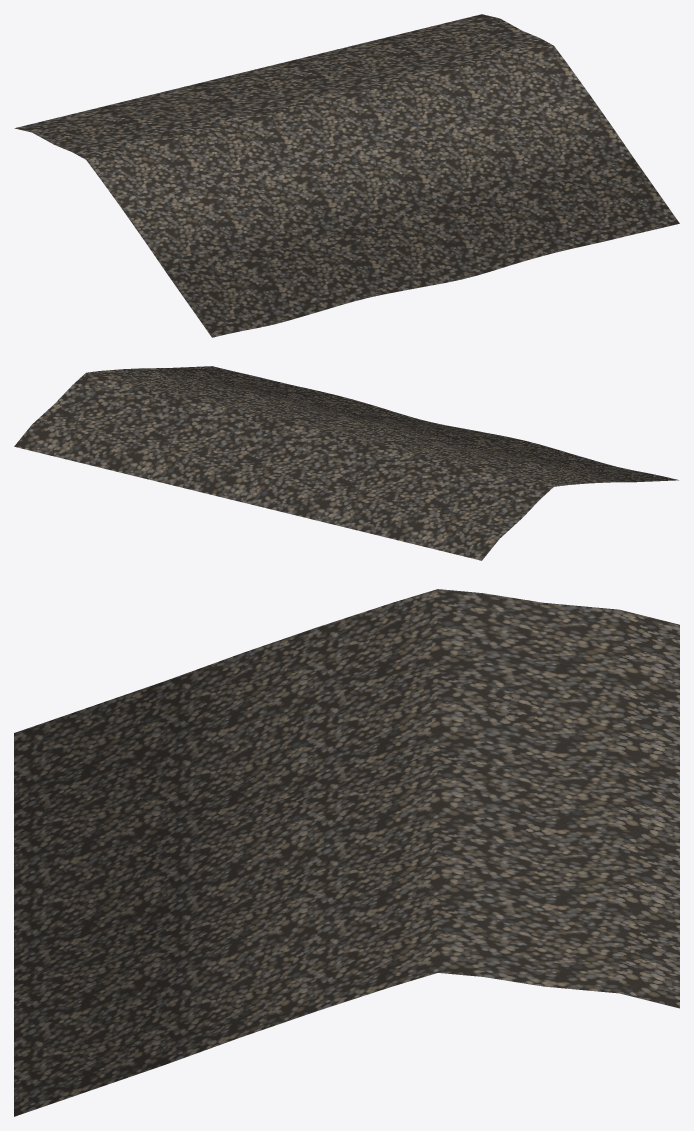
File: beach_shingle_straight6_v5_dead.glb
3 renders of one model, top to bottom at view 1: azimuth 30°, elevation 25°; view 2: azimuth 150°, elevation 25°; view 3: azimuth 270°, elevation 25°, orthographic. The views are drawn at different scales.
Parts seen in each view (by area): view 1: beach_shingle_straight6; view 2: beach_shingle_straight6; view 3: beach_shingle_straight6.
Boxes of the visible parts, x1=… form: beach_shingle_straight6: x1=14, y1=14, x2=679, y2=337; beach_shingle_straight6: x1=14, y1=366, x2=678, y2=560; beach_shingle_straight6: x1=14, y1=589, x2=679, y2=1116.
Bounding box in the file's own units: 6 × 1.09 × 4.4.
1 material, 1 textured.
